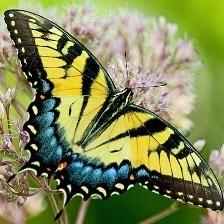butterfly: (5, 10, 223, 210)
